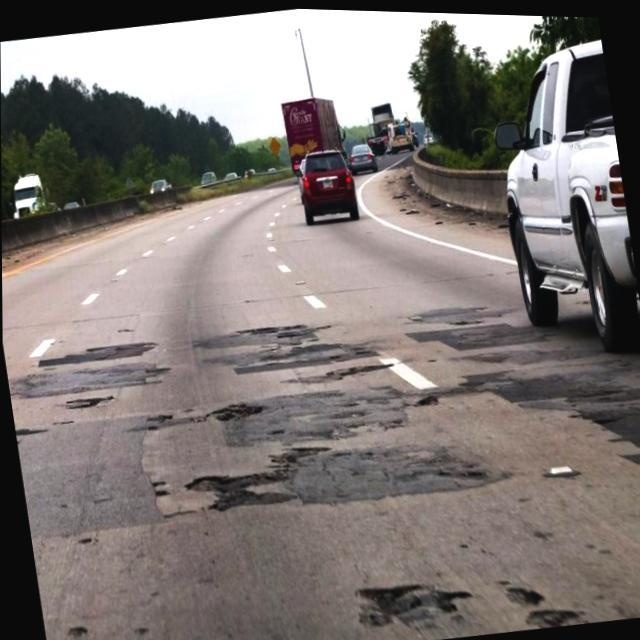pothole: (362, 587, 470, 621), (505, 593, 580, 627)
